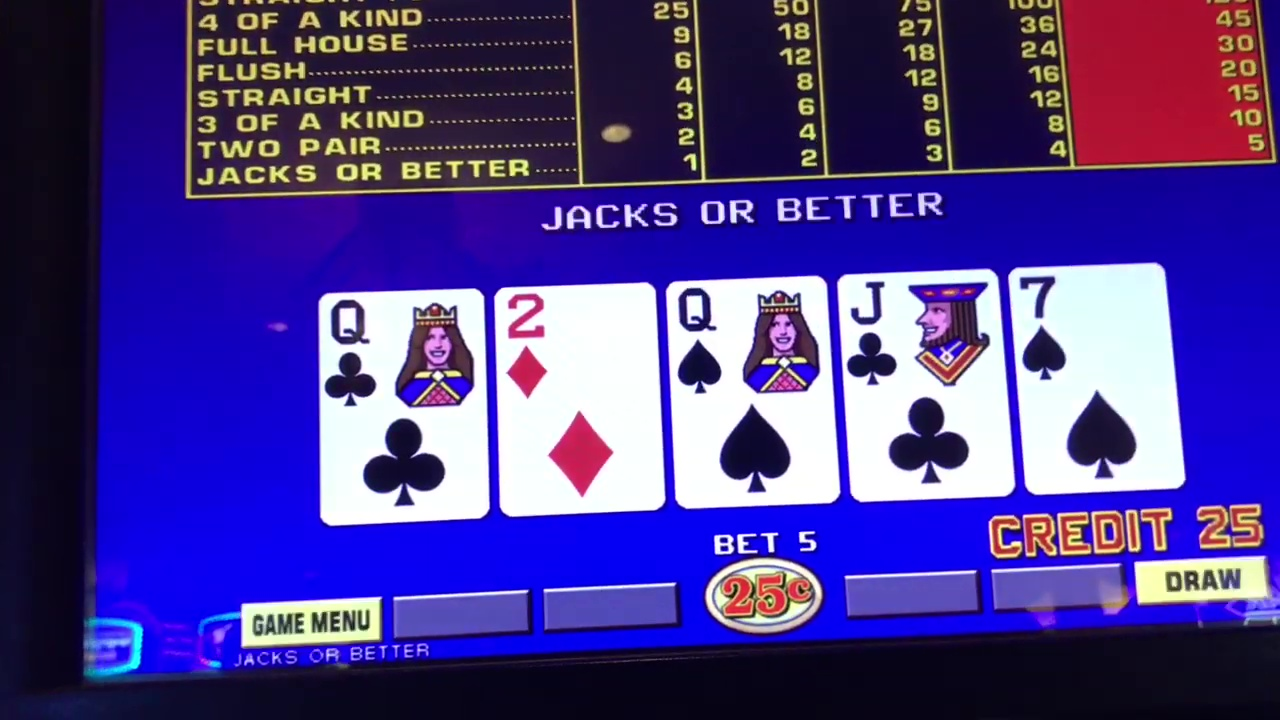CJ: (850, 277, 995, 383)
CQ: (322, 291, 487, 404)
D2: (496, 287, 661, 396)
S7: (1021, 265, 1168, 376)
SQ: (679, 279, 829, 393)
